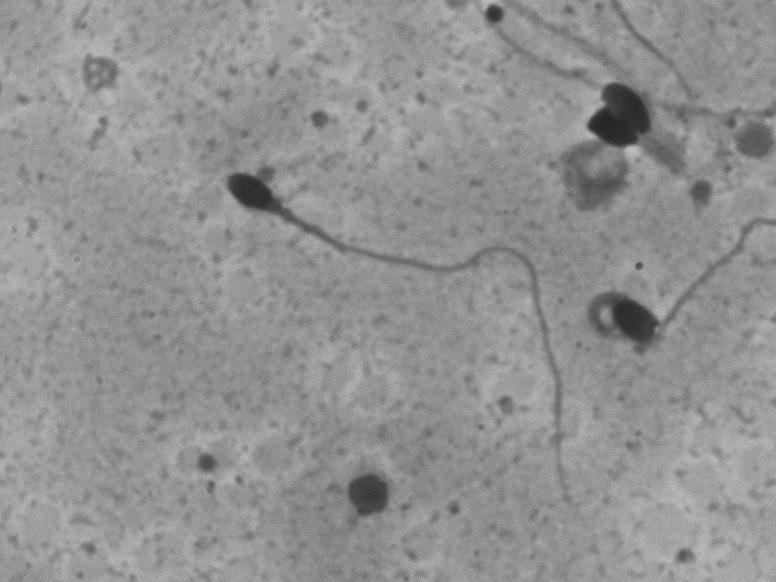Abnormal: (574, 235, 730, 391)
Normal: (165, 151, 571, 510)
